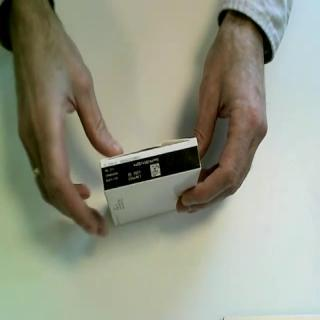valium5mg: (99, 136, 204, 228)
